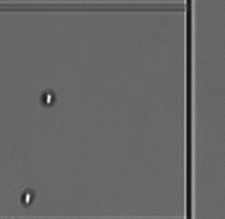Living Cell: (40, 88, 59, 108), (19, 188, 35, 206)
